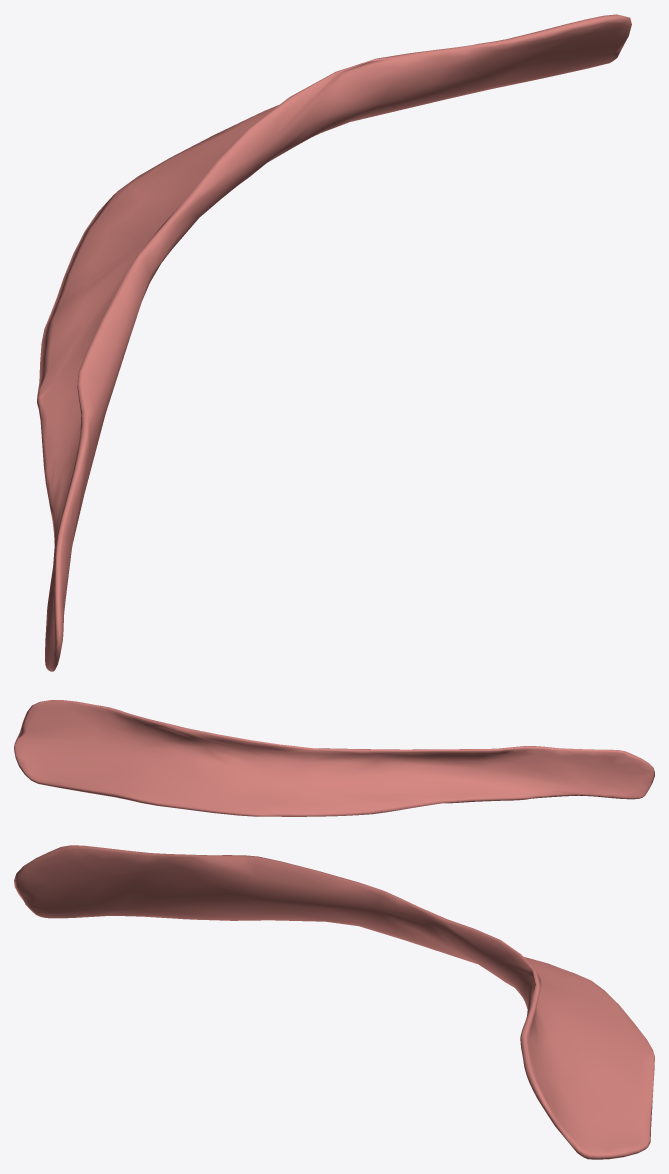
The picture shows the model from 3 angles, top to bottom: view 1: azimuth 30°, elevation 25°; view 2: azimuth 150°, elevation 25°; view 3: azimuth 270°, elevation 25°; orthographic projection. The views are drawn at different scales.
Visible parts, largest first — view 1: ZA_2a8a3704cfca1856; view 2: ZA_2a8a3704cfca1856; view 3: ZA_2a8a3704cfca1856.
Part boxes in pixels (bbox=[...]): ZA_2a8a3704cfca1856: bbox=[37, 14, 631, 671]; ZA_2a8a3704cfca1856: bbox=[14, 700, 654, 816]; ZA_2a8a3704cfca1856: bbox=[14, 845, 654, 1159].
Size of the model in its own units: 0.0552 by 0.0129 by 0.0425.
